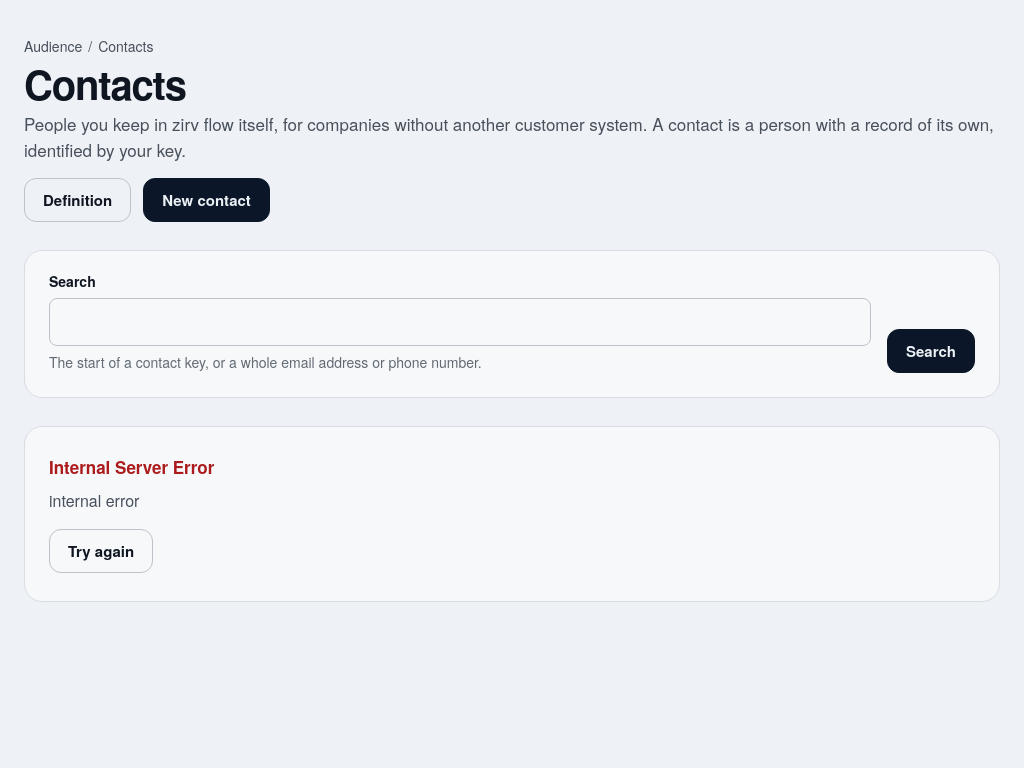
contacts list › shows a retry when loading fails, and loads again
This screenshot has width=1024, height=768.
Click the button "Try again" at {"x": 101, "y": 551}, box [49,529,153,573]
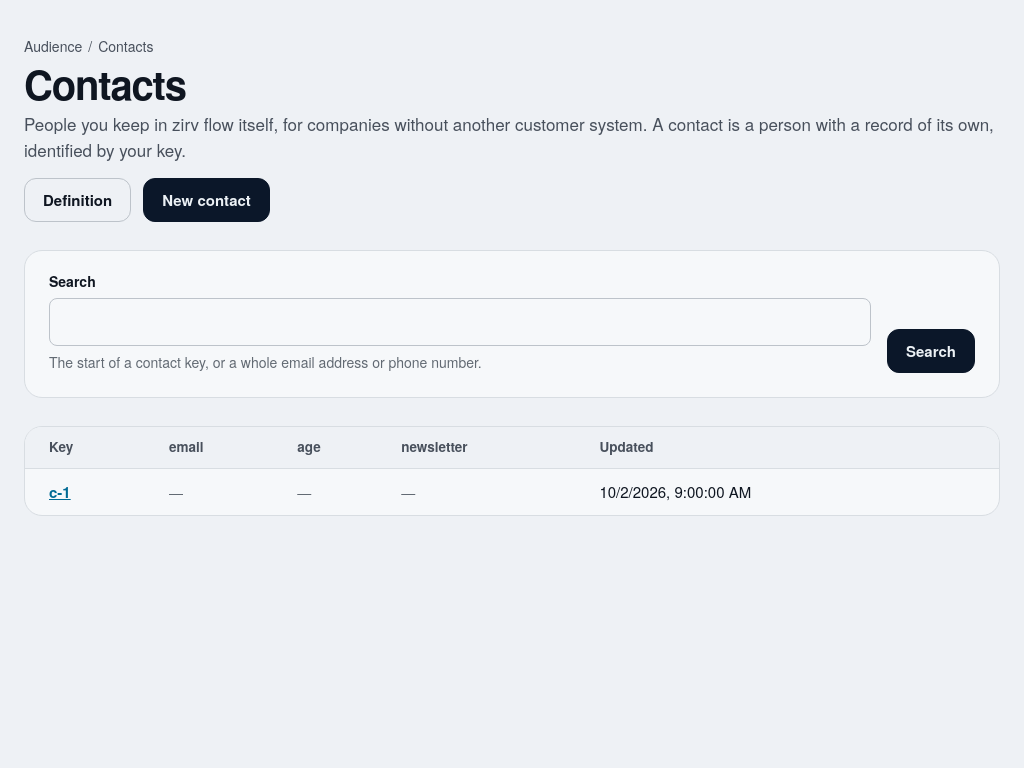
Now the link "c-1" is shown, box [49,481,71,503]
